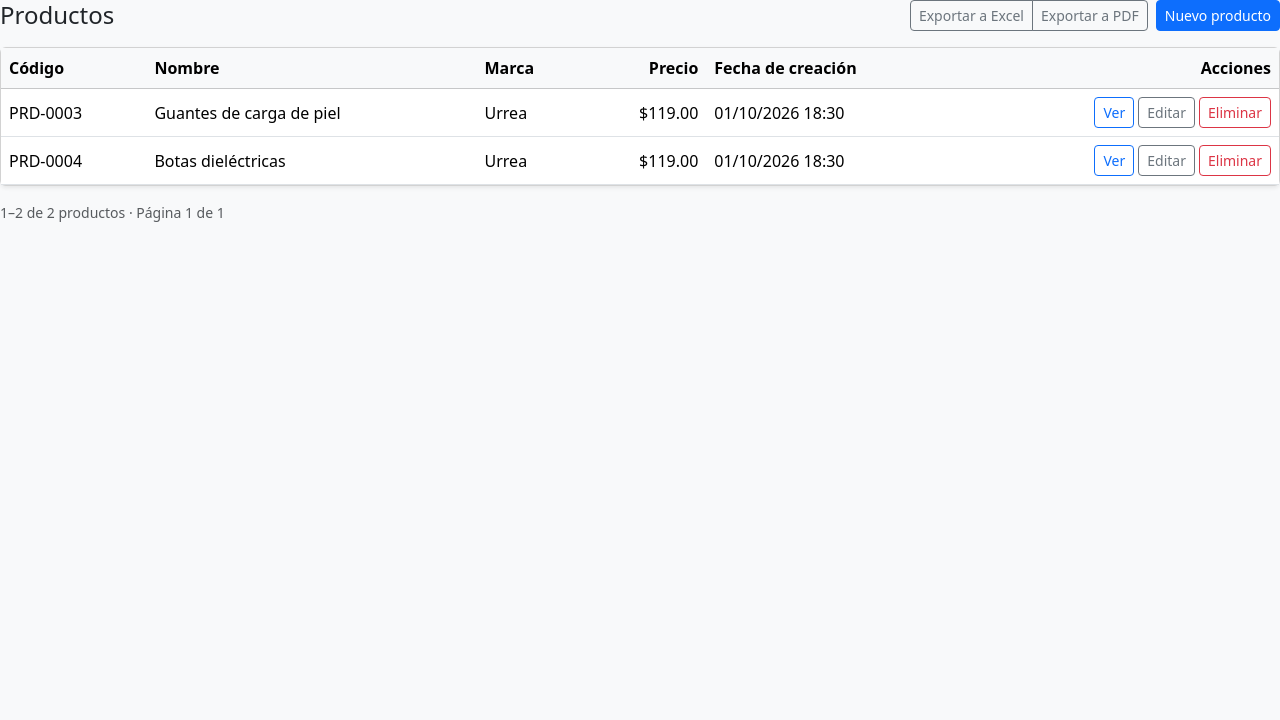
Test: ProductListComponent › eliminar › pide confirmación y, al confirmar, elimina y recarga la página
Click the button with class "btn-outline-danger" in the row of "PRD-0003" at (1235, 112), box [1199, 97, 1271, 128]
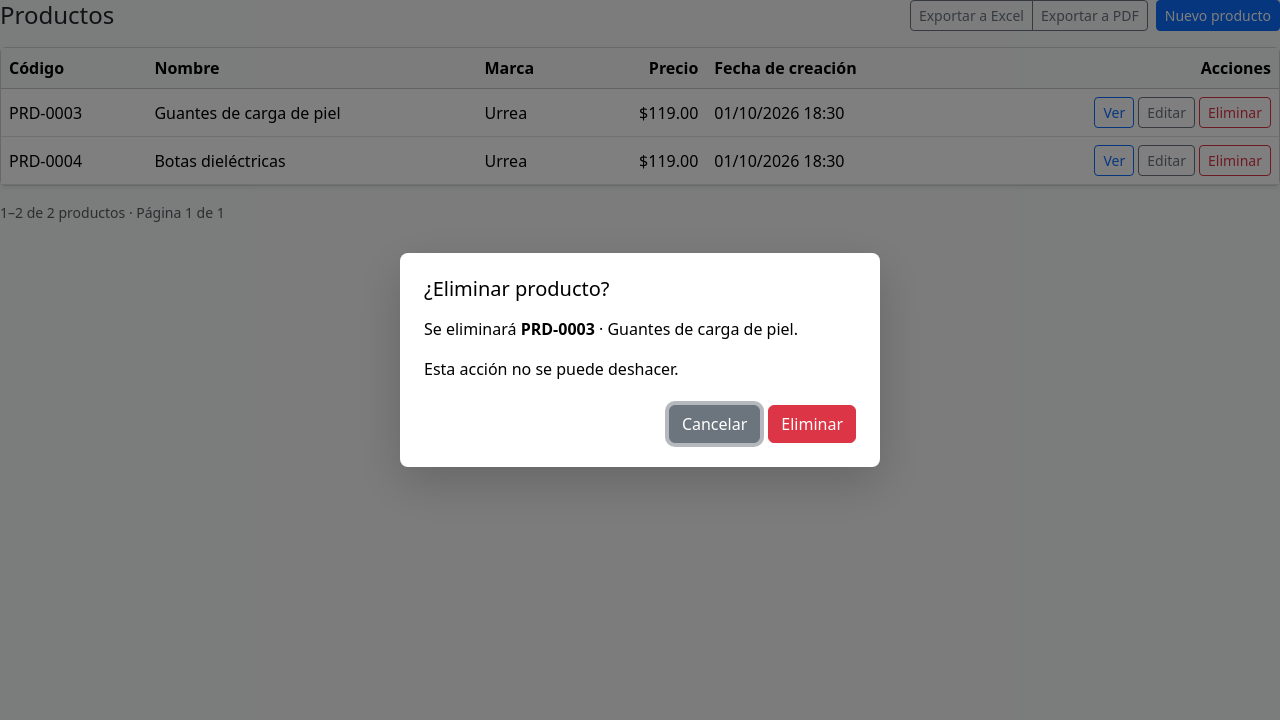
Expected: the dialog shows "PRD-0003", [521, 318, 595, 340]
Click the button with class "btn-danger" at (812, 424), box [768, 405, 856, 443]
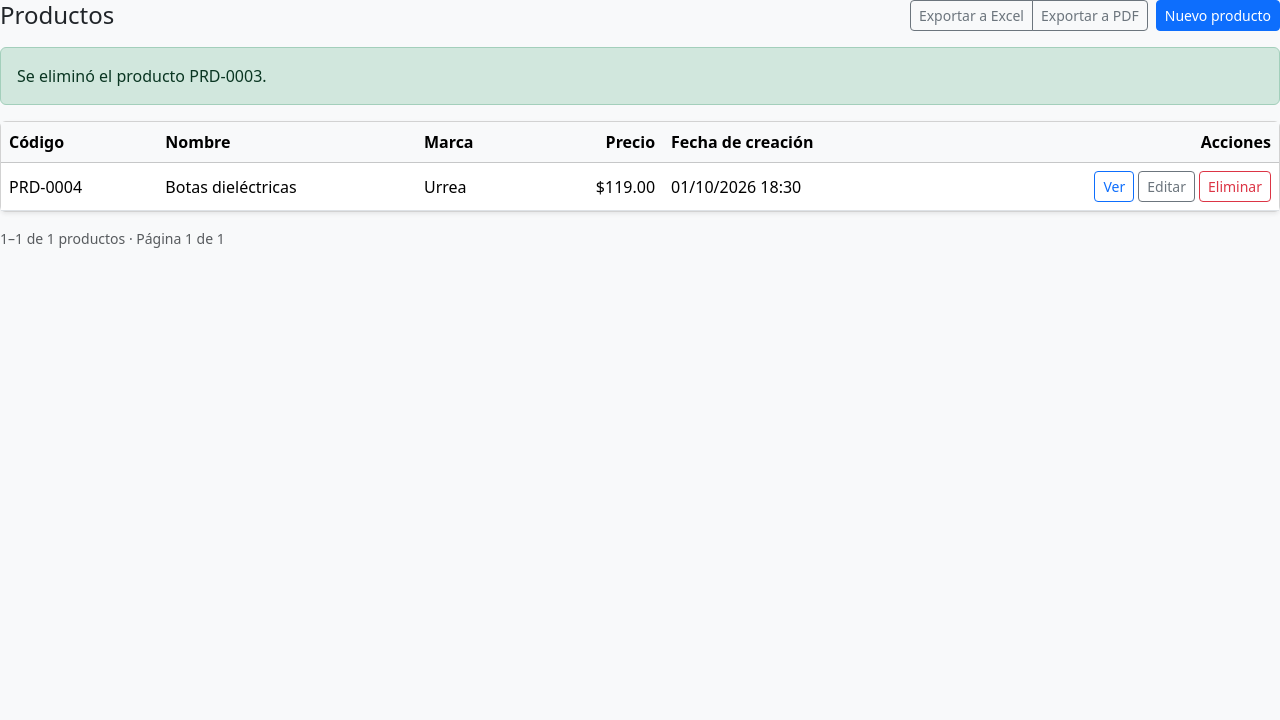
Expected: the message "Se eliminó el producto PRD-0003." is shown, [0, 47, 1279, 105]
